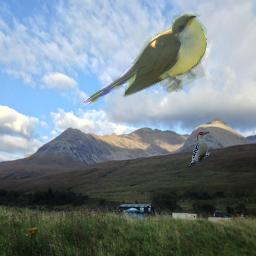Cuckoo: (78, 14, 207, 106)
Woodpecker: (189, 131, 210, 166)
